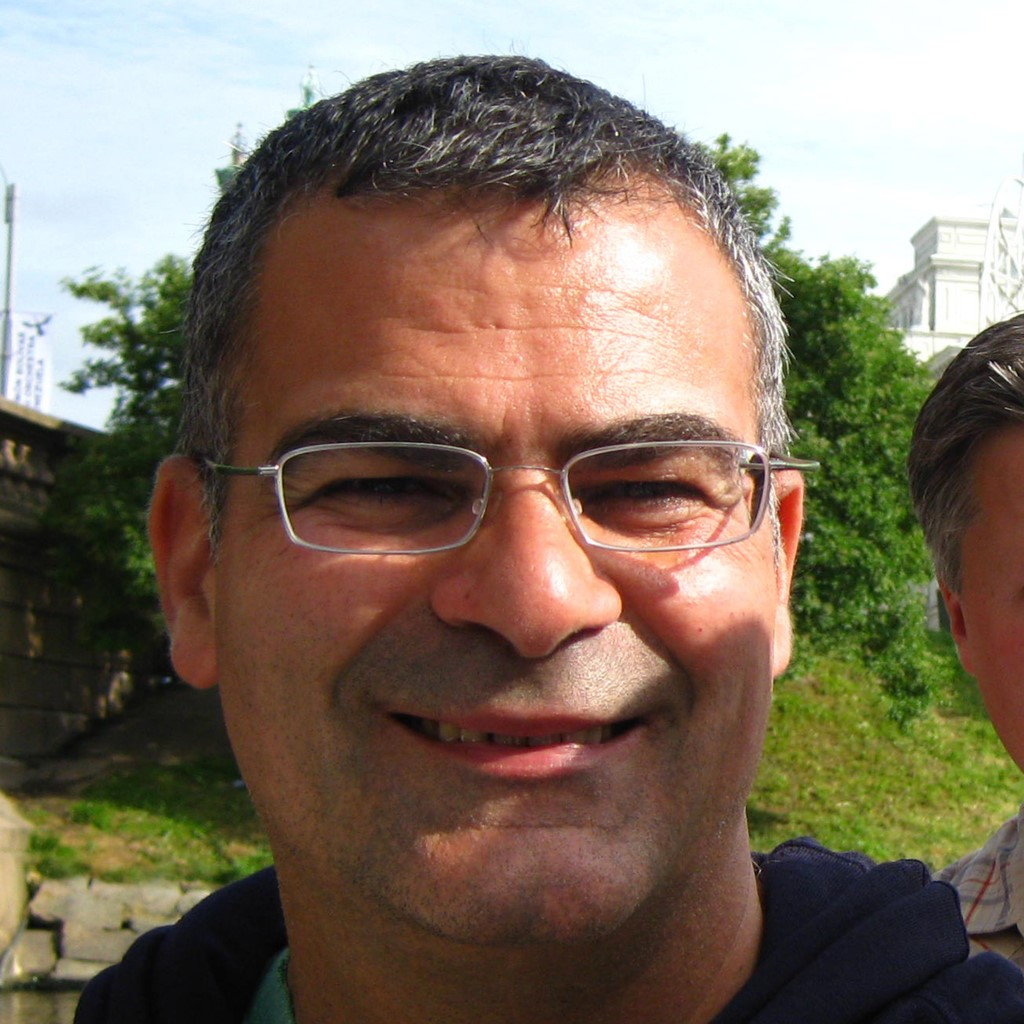sin_mascara: (232, 156, 811, 967)
